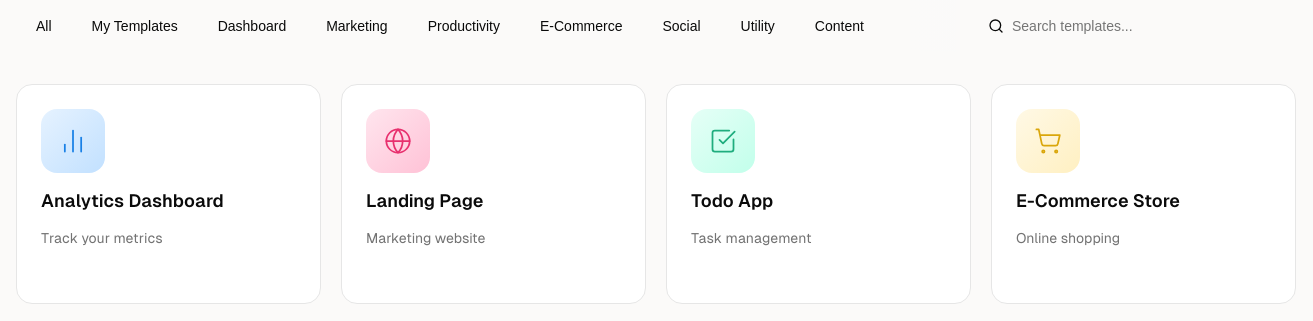
Scenario: TemplateGrid › should display empty state when category has no templates
Step 1. Click the button with aria-label "Filter by Social category" → {"x": 682, "y": 26}, box [646,4,717,48]
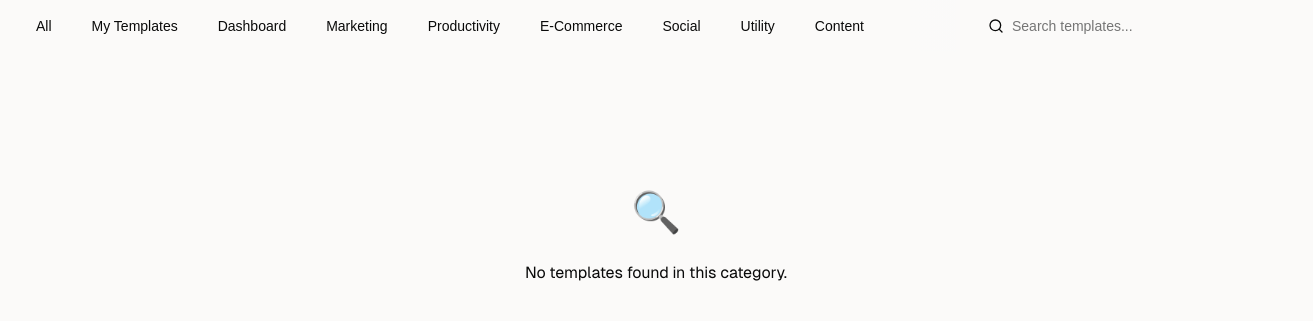
Check: the text "No templates found in this category." is shown, box [525,260,787,286]
